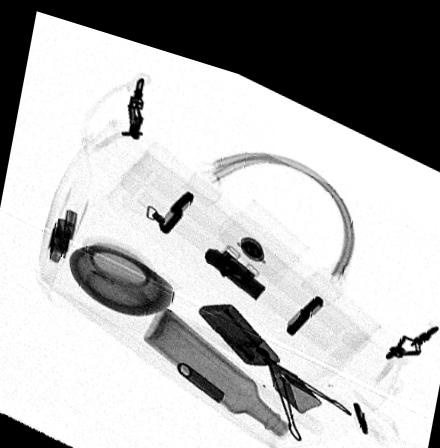Lighter: (198, 289, 280, 351)
